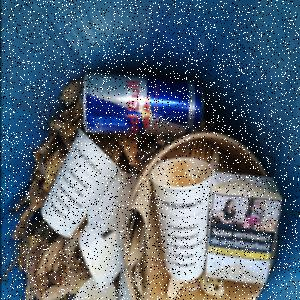Can: (83, 72, 205, 136)
Cup: (41, 130, 121, 240), (149, 158, 214, 282)
Trash: (203, 170, 283, 289)
